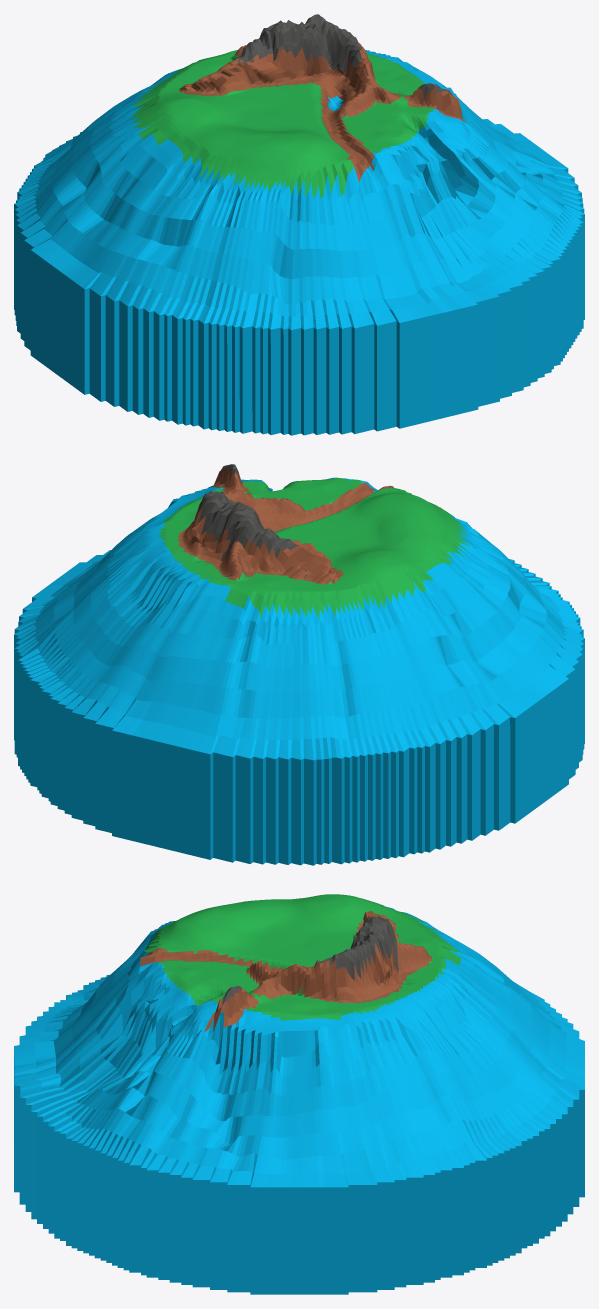
The model's file is terrain.glb.
The picture shows the model from 3 angles, top to bottom: view 1: azimuth 30°, elevation 25°; view 2: azimuth 150°, elevation 25°; view 3: azimuth 270°, elevation 25°; orthographic projection.
Parts seen in each view (by area): view 1: Plane; view 2: Plane; view 3: Plane.
Boxes of the visible parts, left/top/right/bottom form: Plane: left=14, top=14, right=584, bottom=435; Plane: left=14, top=464, right=584, bottom=865; Plane: left=14, top=894, right=584, bottom=1294.
Size of the model in its own units: 304 by 157 by 304.
Materials: 1 (1 with a texture image).
